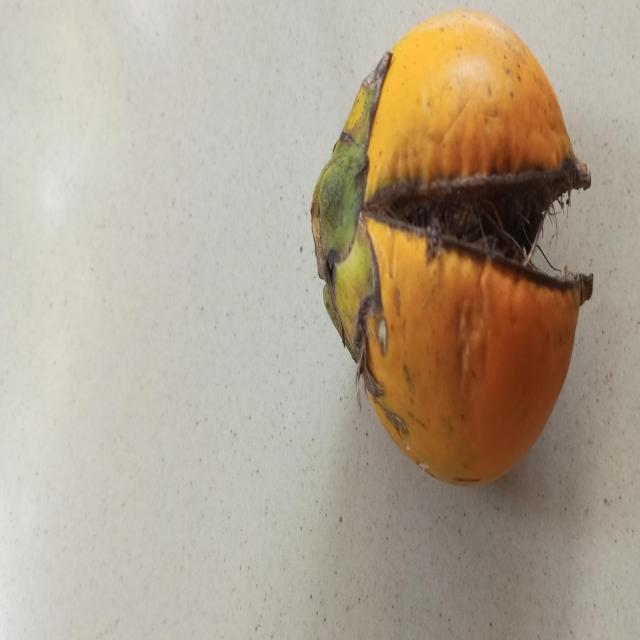damaged: (311, 10, 593, 484)
